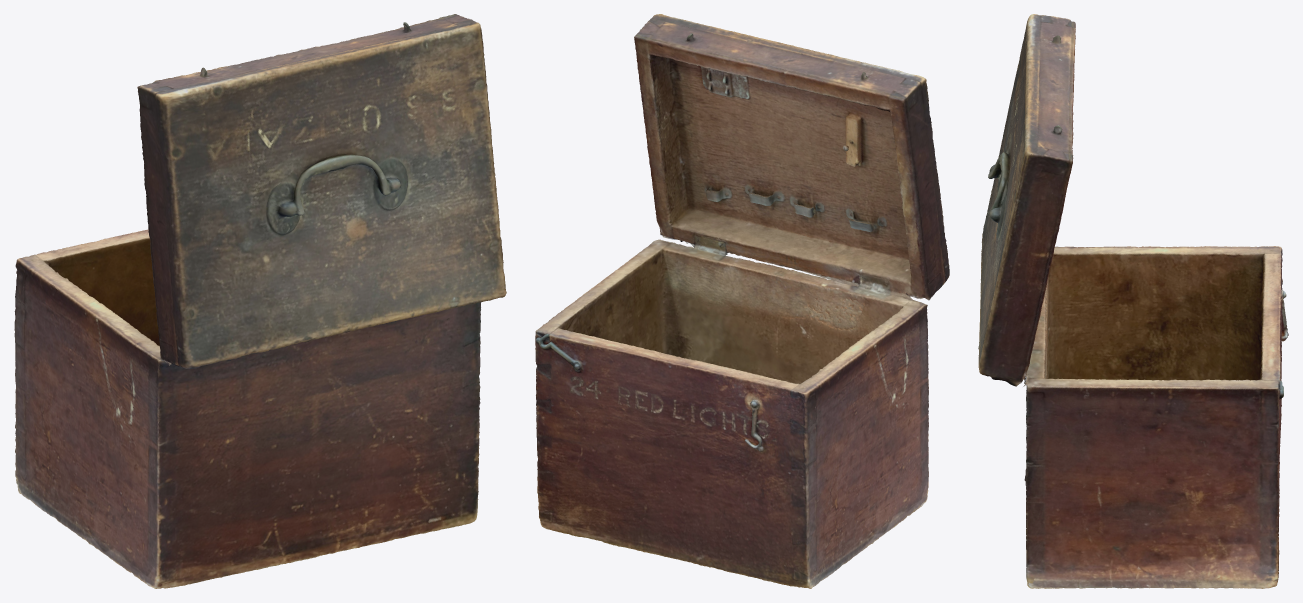
Rendered from locker_industrial.glb.
3 renders of one model, left to right at view 1: azimuth 30°, elevation 25°; view 2: azimuth 150°, elevation 25°; view 3: azimuth 270°, elevation 25°, orthographic. The views are drawn at different scales.
Parts seen in each view (by area): view 1: Object_4, Object_2, Object_5, Object_3, Object_6; view 2: Object_3, Object_5, Object_2, Object_4, Object_6; view 3: Object_4, Object_3, Object_2, Object_5, Object_6.
Part boxes in pixels (x1,y1,x2,y2): Object_4: (15,179,506,587); Object_2: (74,14,499,446); Object_5: (110,55,505,588); Object_3: (14,17,493,477); Object_6: (15,30,479,580); Object_3: (535,16,943,578); Object_5: (536,58,948,566); Object_2: (535,14,949,435); Object_4: (623,149,928,588); Object_6: (536,20,917,588); Object_4: (978,246,1286,588); Object_3: (985,50,1288,530); Object_2: (979,126,1283,468); Object_5: (978,14,1281,588); Object_6: (979,41,1281,588).
Size of the model in its own units: 1.8 by 2.69 by 1.7.
1 material, 1 textured.
